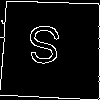S: (26, 25, 62, 73)
